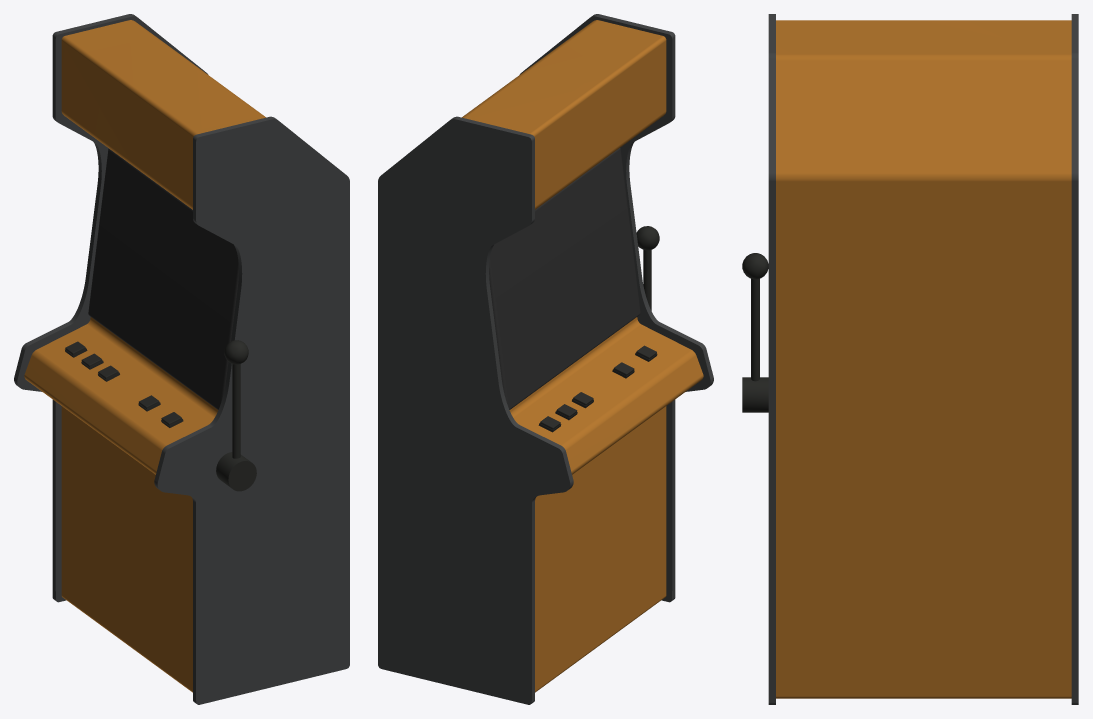
Rendered from SlotMachine.glb.
3 views of the same model, side by side, from view 1: azimuth 30°, elevation 25°; view 2: azimuth 150°, elevation 25°; view 3: azimuth 270°, elevation 25° (orthographic). The views are drawn at different scales.
Visible parts, largest first — view 1: Panel.001, Box, Flat, Panel, SlotHandle, SlotHandle.001; view 2: Panel, Box, Flat, Panel.001; view 3: Box, Panel, Panel.001, SlotHandle, SlotHandle.001, SlotHandle.002.
Boxes of the visible parts, x1,y1,x2,y2 form: Panel.001: [154, 116, 349, 704]; Box: [24, 20, 265, 692]; Flat: [88, 148, 238, 409]; Panel: [14, 14, 208, 602]; SlotHandle: [216, 452, 256, 491]; SlotHandle.001: [232, 364, 240, 458]; Panel: [378, 116, 573, 704]; Box: [462, 20, 703, 692]; Flat: [489, 148, 640, 409]; Panel.001: [519, 14, 713, 602]; Box: [776, 20, 1071, 698]; Panel: [1071, 14, 1078, 704]; Panel.001: [768, 14, 775, 704]; SlotHandle: [742, 377, 768, 412]; SlotHandle.001: [751, 278, 759, 381]; SlotHandle.002: [742, 253, 768, 279].
Size of the model in its own units: 0.6751 by 1.9 by 0.9483.
